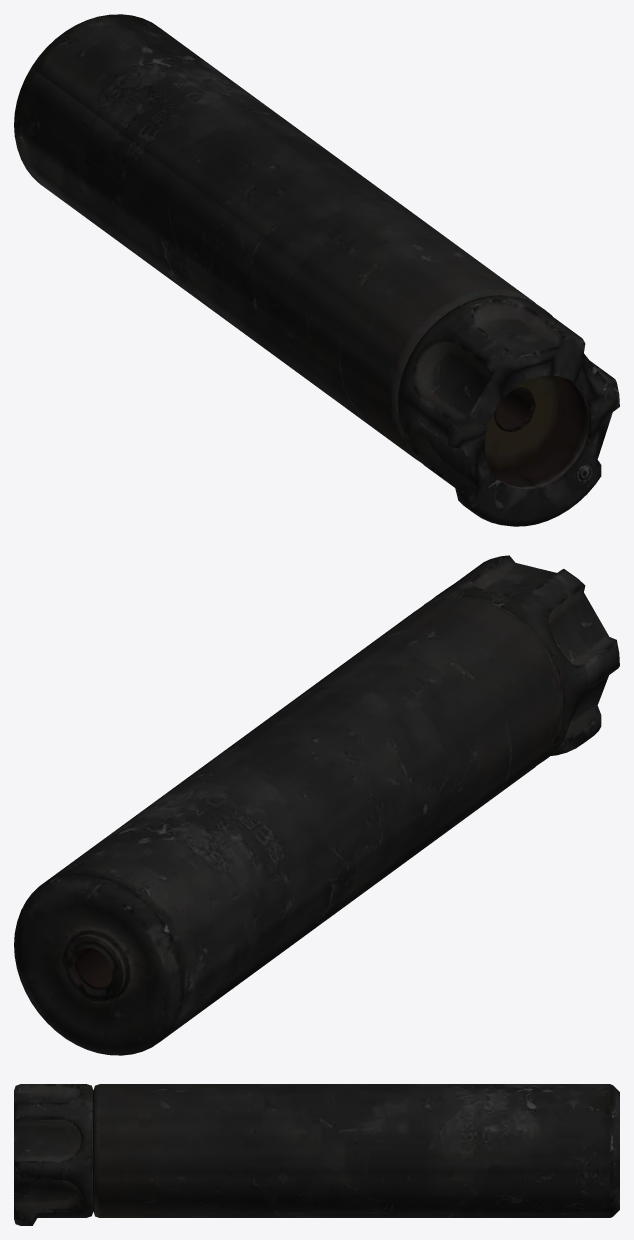
The model's file is sup-rifle.glb.
3 views of the same model, one above another, from view 1: azimuth 30°, elevation 25°; view 2: azimuth 150°, elevation 25°; view 3: azimuth 270°, elevation 25° (orthographic). The views are drawn at different scales.
Visible parts, largest first — view 1: sup-rifle; view 2: sup-rifle; view 3: sup-rifle.
Part boxes in pixels (<box>): sup-rifle: <box>14,14,619,526</box>; sup-rifle: <box>14,555,619,1055</box>; sup-rifle: <box>14,1084,619,1225</box>.
Bounding box in the file's own units: 0.0354 × 0.0377 × 0.16.
1 material, 1 textured.
